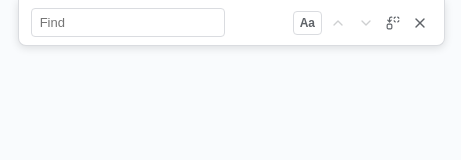
Scenario: FindReplace › toggles replace row
Expected: the field with placeholder "Replace with" is not shown
Click the button titled "Toggle replace (Cmd+H)" at (393, 22), box [382, 12, 404, 34]
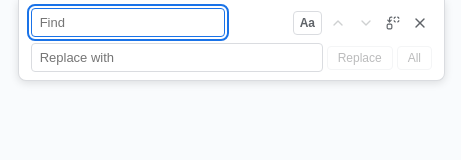
Now the field with placeholder "Replace with" is shown, box [31, 43, 323, 72]
